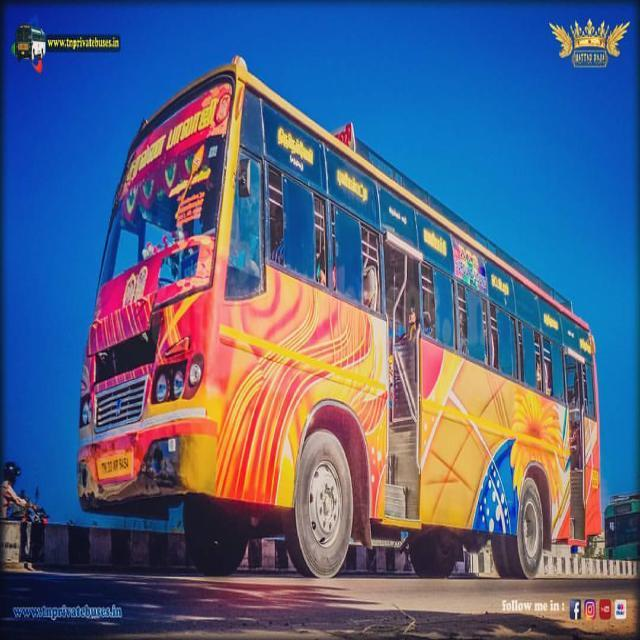Bus: (75, 52, 604, 578), (602, 497, 640, 560)
